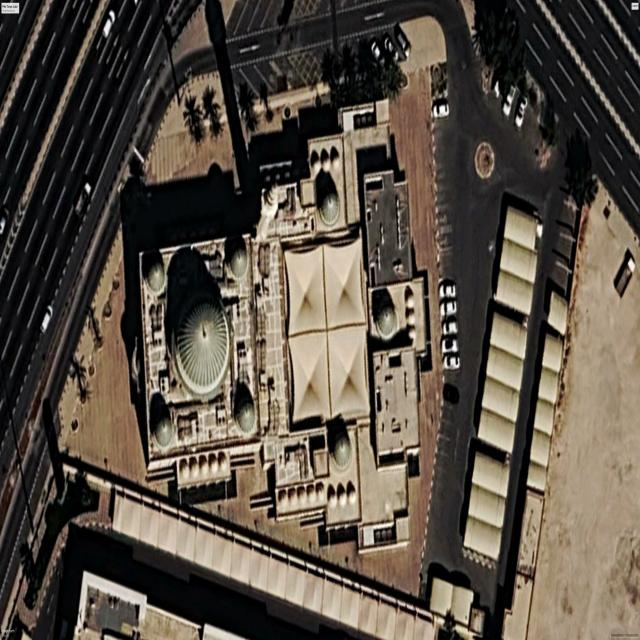mosque: (140, 100, 429, 552)
